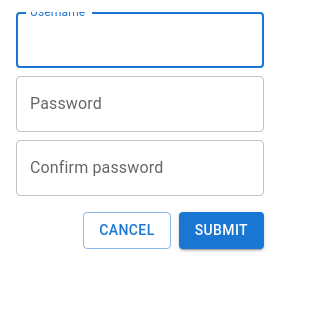
requires username, password and confirm password
The width and height of the screenshot is (320, 314).
Click the button "Submit": (221, 230) [179,212,264,248]
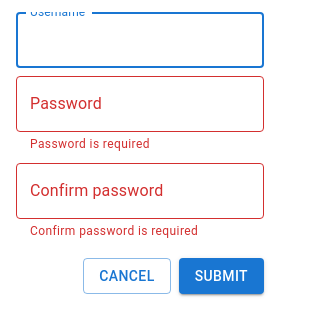
Now the text "Password is required" is shown, box [30,137,150,151]
Now the text "Confirm password is required" is shown, box [30,224,198,238]
